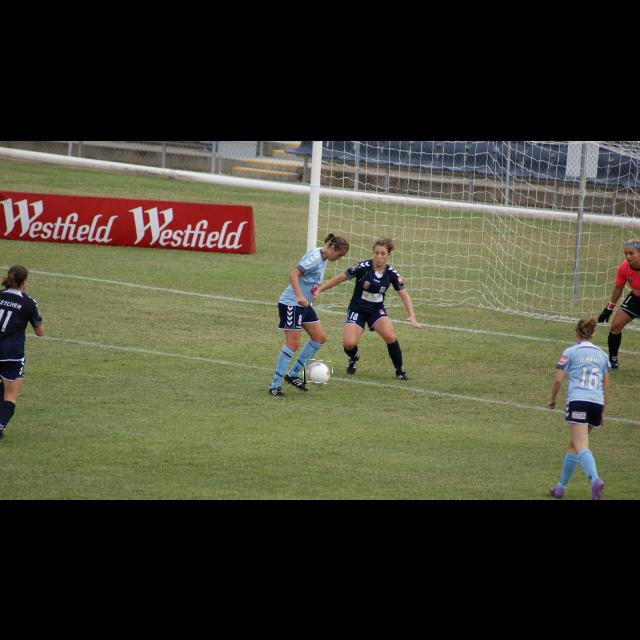Football: (304, 360, 332, 384)
